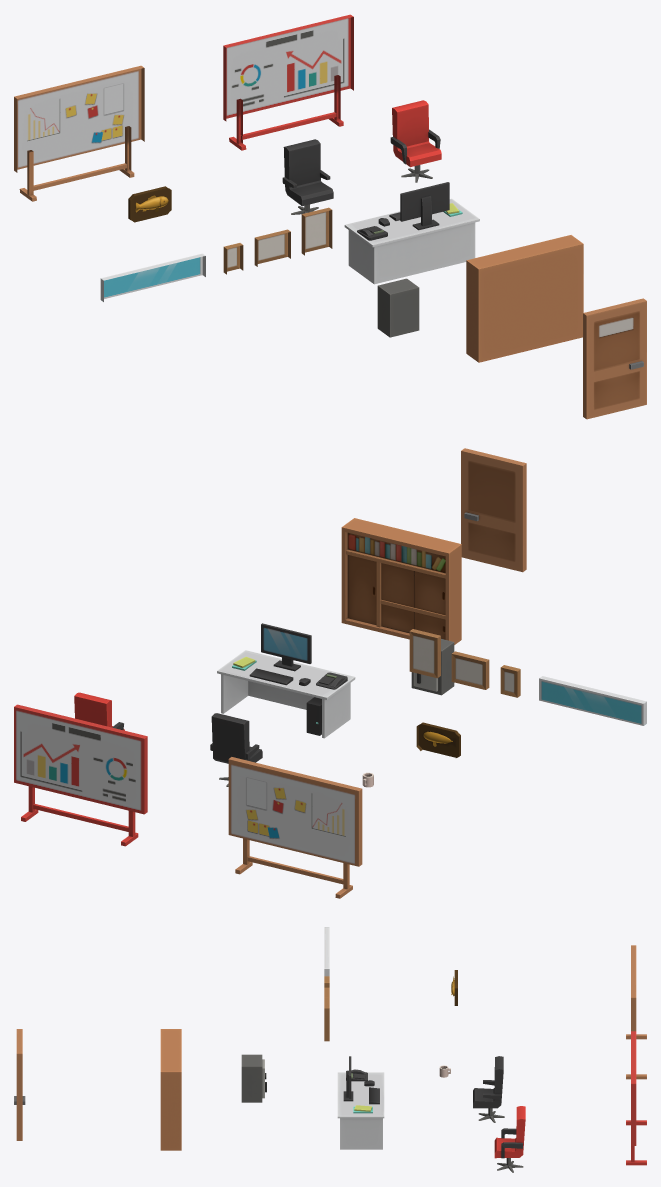
File: mebel office.fbx
The picture shows the model from 3 angles, top to bottom: view 1: azimuth 30°, elevation 25°; view 2: azimuth 150°, elevation 25°; view 3: azimuth 270°, elevation 25°; orthographic projection. The views are drawn at different scales.
Visible parts, largest first — view 1: Object096, Object083, Object084, Object097, Object088, Object086, Object085, Object098, Object095, Object090, Object101, Object102 (+1 smaller); view 2: Object096, Object083, Object084, Object097, Object088, Object098, Object085, Object090, Object101, Object100, Object102, Object095 (+1 smaller); view 3: Object088, Object096, Object086, Object095, Object085, Object084, Object097, Object083.
Part boxes in pixels (x1=…): Object096: x1=466, y1=235, x2=583, y2=362; Object083: x1=14, y1=65, x2=144, y2=201; Object084: x1=223, y1=14, x2=353, y2=150; Object097: x1=583, y1=298, x2=646, y2=419; Object088: x1=344, y1=198, x2=479, y2=284; Object086: x1=390, y1=100, x2=441, y2=182; Object085: x1=282, y1=139, x2=333, y2=214; Object098: x1=100, y1=253, x2=205, y2=301; Object095: x1=377, y1=278, x2=419, y2=337; Object090: x1=400, y1=182, x2=449, y2=230; Object101: x1=301, y1=207, x2=332, y2=255; Object102: x1=128, y1=186, x2=171, y2=222; Object096: x1=341, y1=518, x2=461, y2=644; Object083: x1=228, y1=757, x2=362, y2=898; Object084: x1=14, y1=704, x2=147, y2=846; Object097: x1=461, y1=448, x2=526, y2=572; Object088: x1=217, y1=650, x2=355, y2=738; Object098: x1=539, y1=676, x2=646, y2=725; Object085: x1=210, y1=713, x2=262, y2=786; Object090: x1=261, y1=623, x2=311, y2=671; Object101: x1=409, y1=629, x2=440, y2=678; Object100: x1=451, y1=651, x2=489, y2=689; Object102: x1=416, y1=722, x2=460, y2=757; Object095: x1=411, y1=639, x2=454, y2=695; Object088: x1=337, y1=1072, x2=384, y2=1149; Object096: x1=160, y1=1029, x2=181, y2=1150; Object086: x1=494, y1=1106, x2=525, y2=1172; Object095: x1=241, y1=1054, x2=266, y2=1102; Object085: x1=473, y1=1056, x2=504, y2=1122; Object084: x1=626, y1=1031, x2=646, y2=1165; Object097: x1=14, y1=1029, x2=25, y2=1140; Object083: x1=626, y1=945, x2=646, y2=1079.
Bounding box in the file's own units: 353 × 79.62 × 520.
